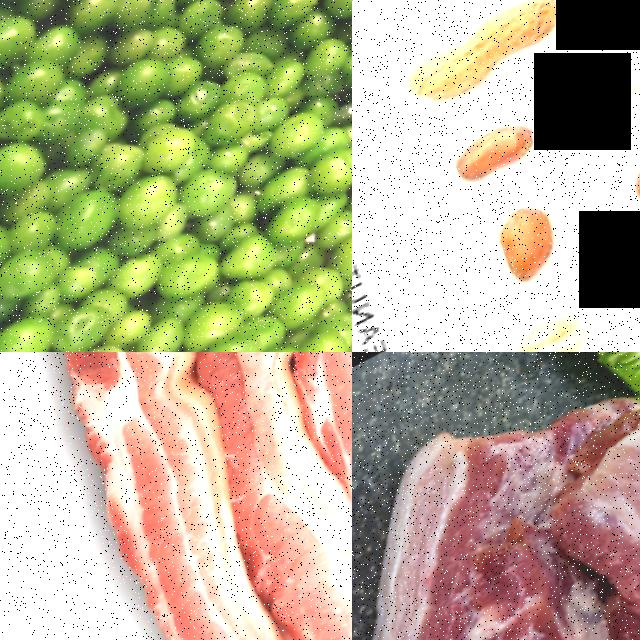peanuts: (391, 0, 582, 127), (484, 191, 590, 304), (444, 110, 553, 202)
peas: (0, 0, 352, 352)
pork belly: (0, 352, 352, 640), (95, 352, 352, 640), (352, 401, 640, 640), (193, 352, 352, 640), (547, 352, 640, 640)
